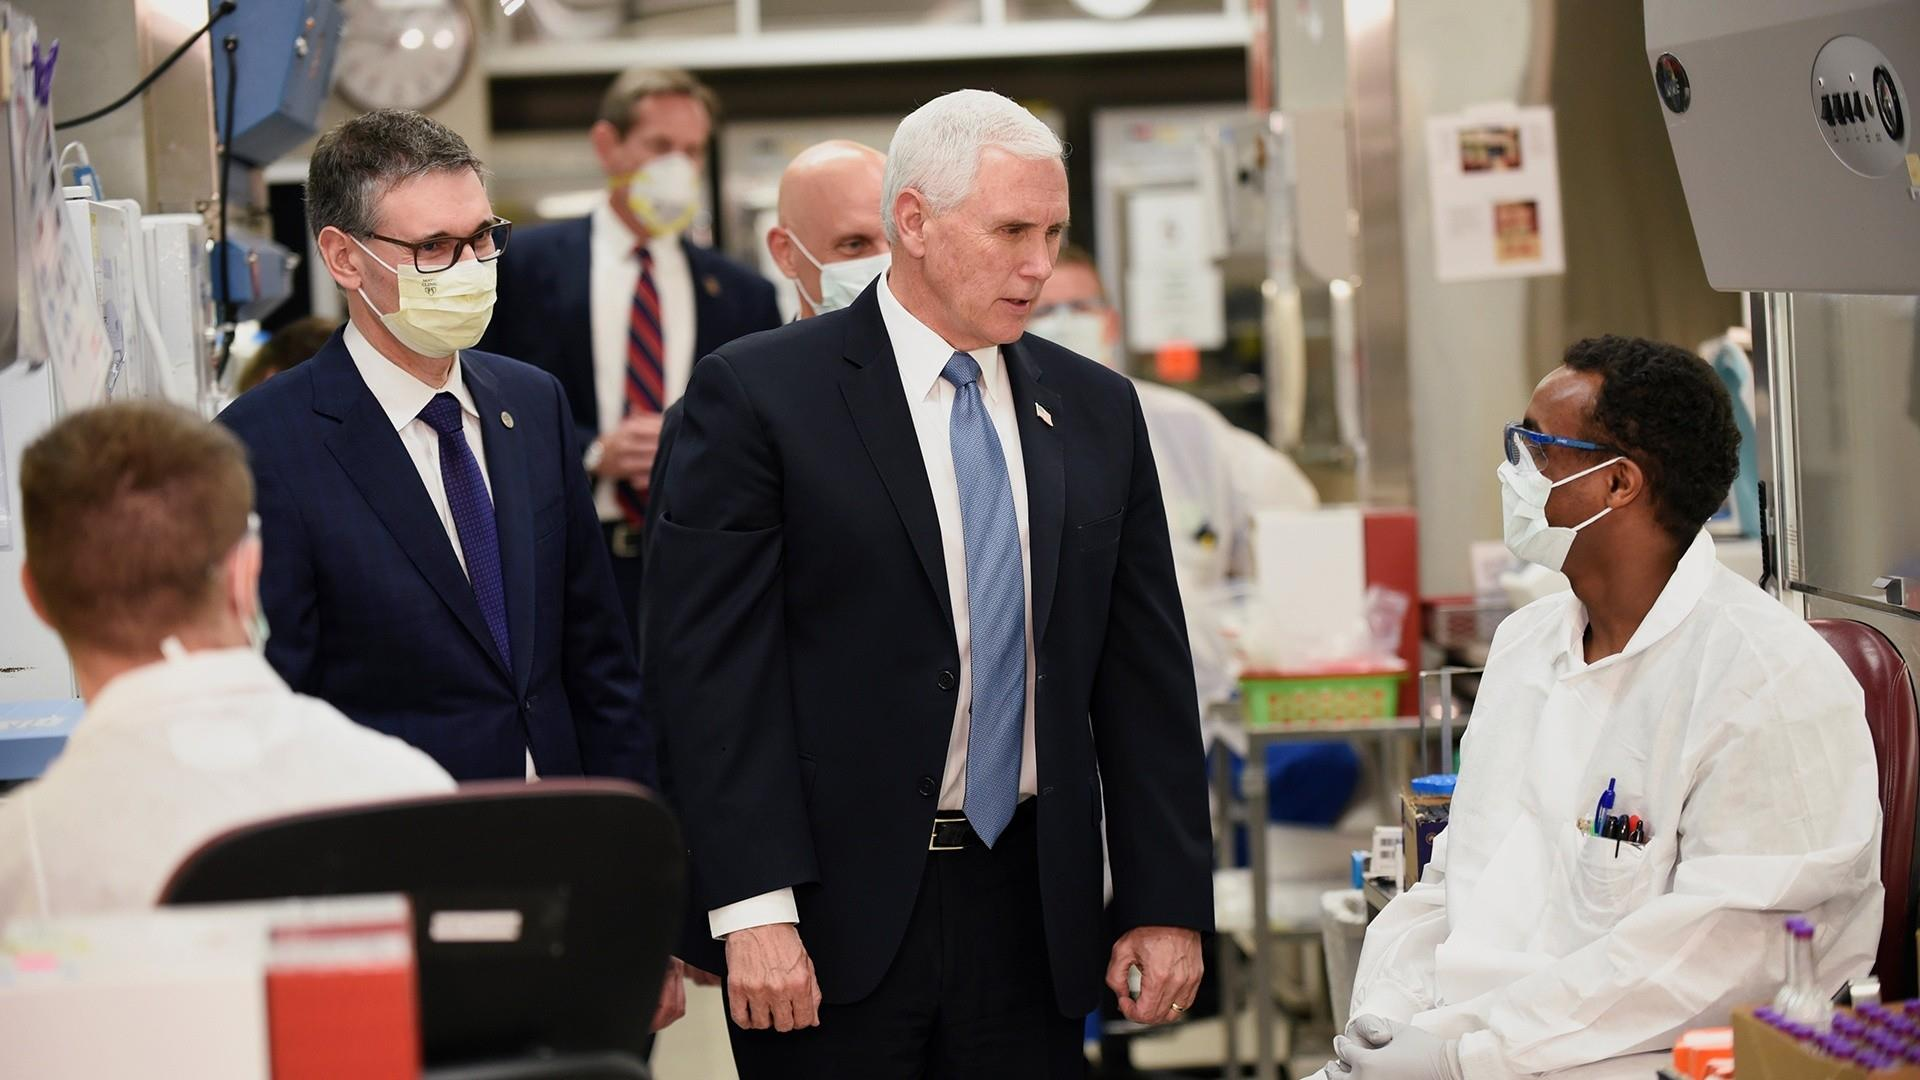with_mask: (1495, 365, 1611, 576), (377, 197, 511, 356)
without_mask: (954, 172, 1070, 347)
